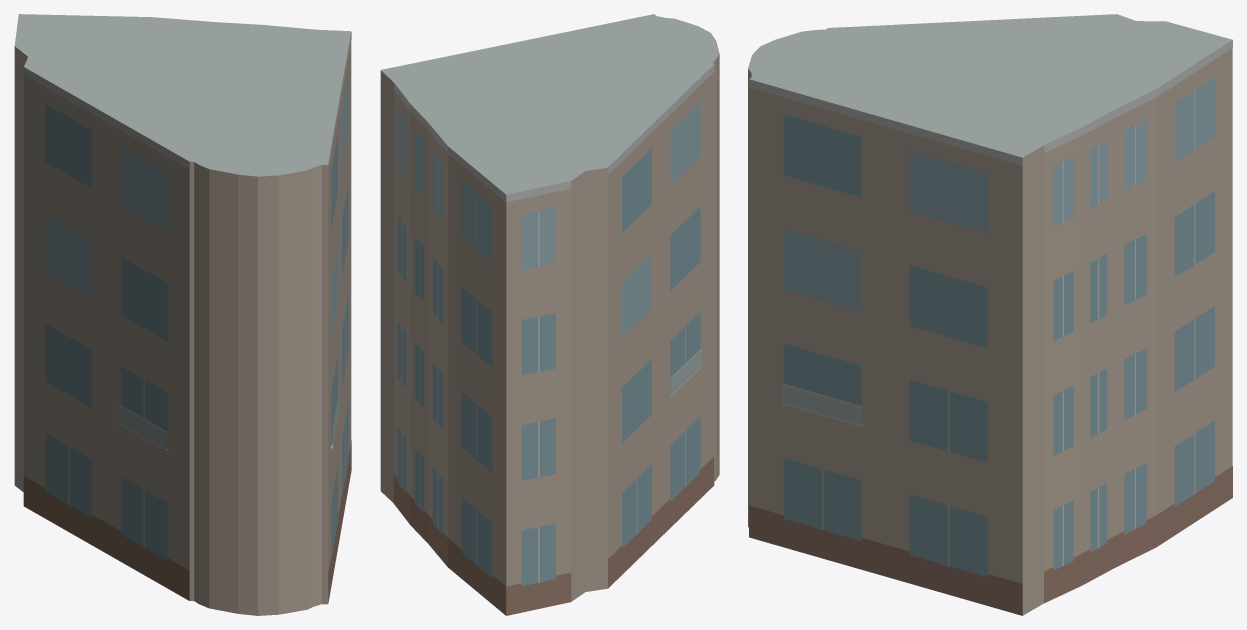
The model's file is survey-upis-32464276.glb.
3 renders of one model, left to right at view 1: azimuth 30°, elevation 25°; view 2: azimuth 150°, elevation 25°; view 3: azimuth 270°, elevation 25°, orthographic. The views are drawn at different scales.
Parts seen in each view (by area): view 1: survey-upis-32464276.tmp; view 2: survey-upis-32464276.tmp; view 3: survey-upis-32464276.tmp.
Boxes of the visible parts, <box> form: survey-upis-32464276.tmp: <box>14,14,351,615</box>; survey-upis-32464276.tmp: <box>380,14,719,615</box>; survey-upis-32464276.tmp: <box>748,14,1232,615</box>.
Bounding box in the file's own units: 9.09 × 13.5 × 12.95.
